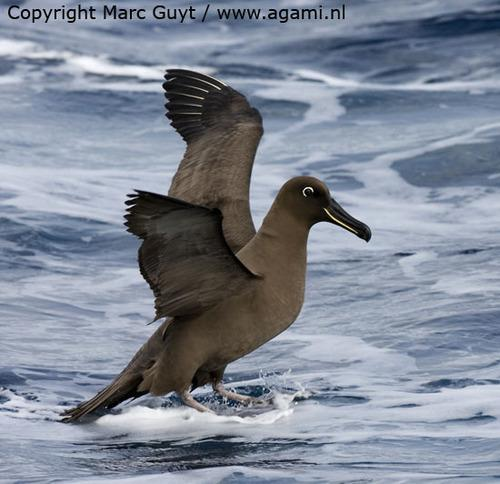003.Sooty_Albatross: (62, 66, 373, 427)
